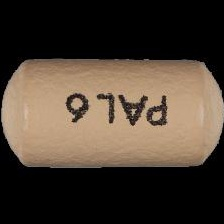21695-455: (0, 0, 224, 224)
